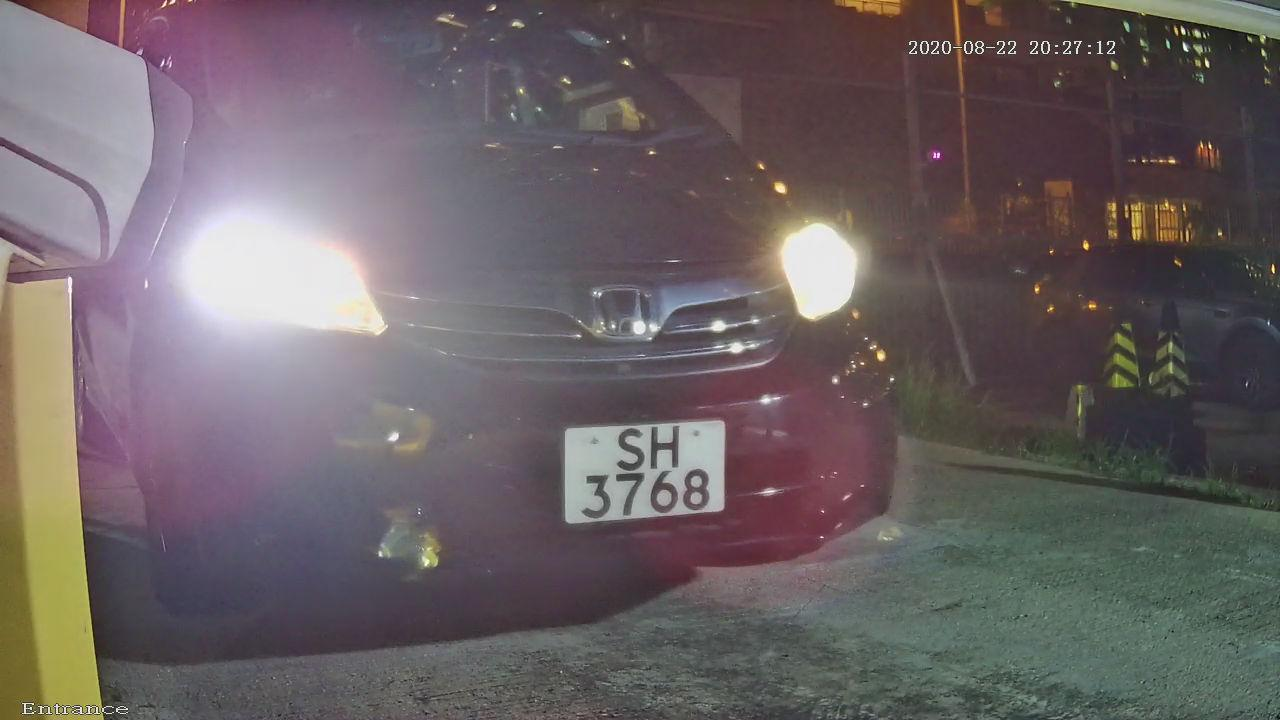License Plate: (543, 402, 743, 534)
